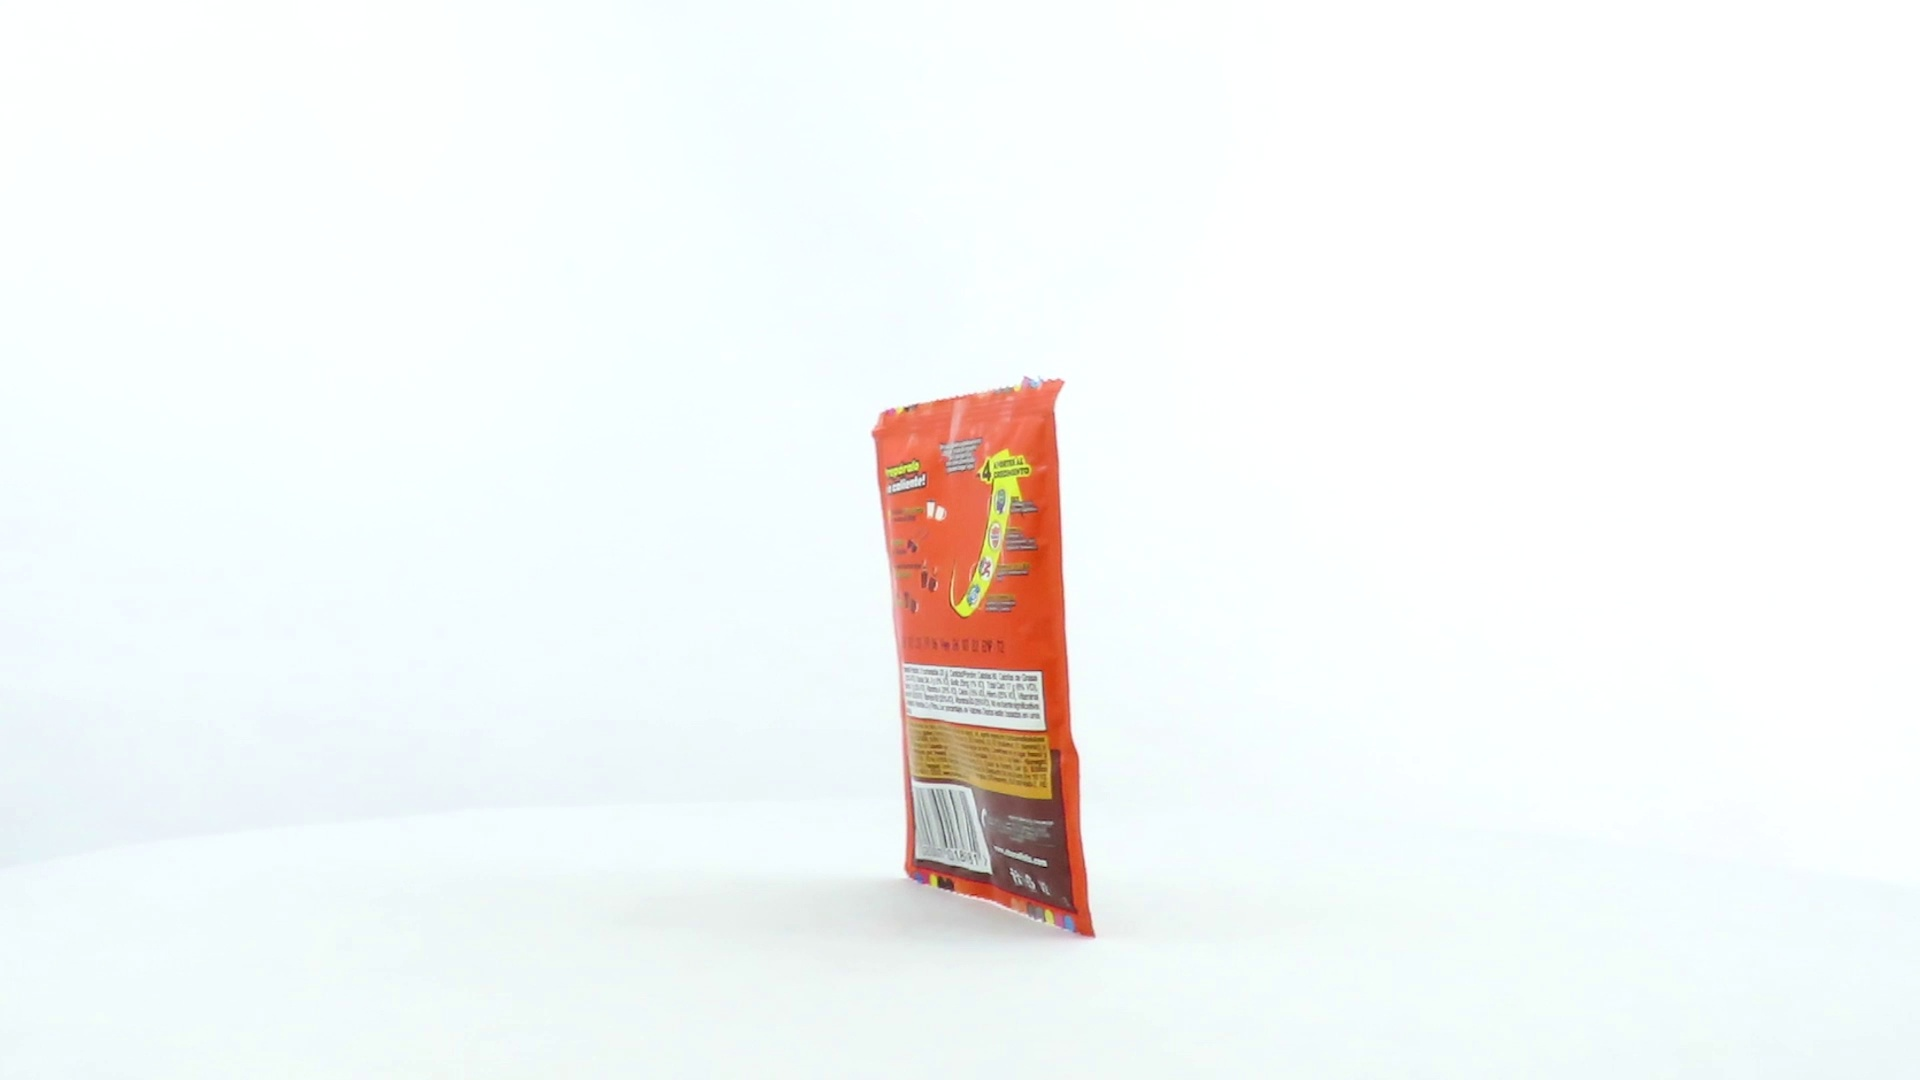COL0170103SOB02000: (866, 371, 1102, 944)
